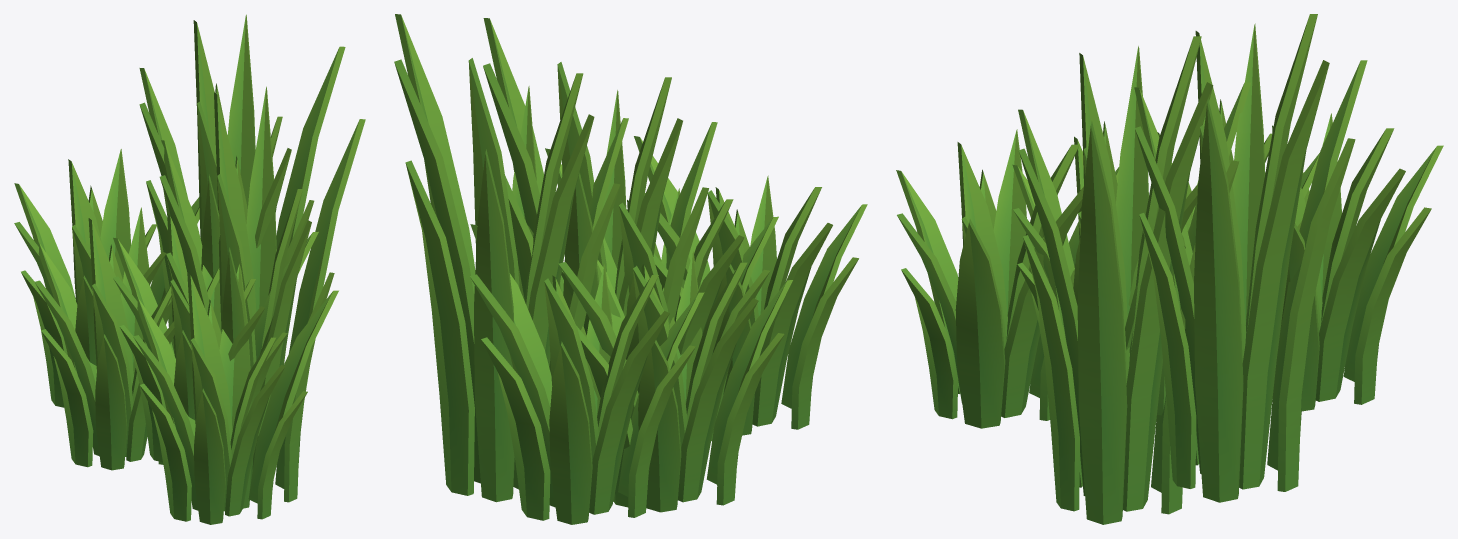
The model's file is tst-grass.glb.
3 views of the same model, side by side, from view 1: azimuth 30°, elevation 25°; view 2: azimuth 150°, elevation 25°; view 3: azimuth 270°, elevation 25° (orthographic). The views are drawn at different scales.
Visible parts, largest first — view 1: Grass_00; view 2: Grass_00; view 3: Grass_00.
Part boxes in pixels (left/top/right/bottom): Grass_00: left=14, top=14, right=365, bottom=524; Grass_00: left=394, top=14, right=867, bottom=524; Grass_00: left=896, top=14, right=1443, bottom=524.
Size of the model in its own units: 1.46 by 1.81 by 1.78.
Materials: 6 (6 with a texture image).
